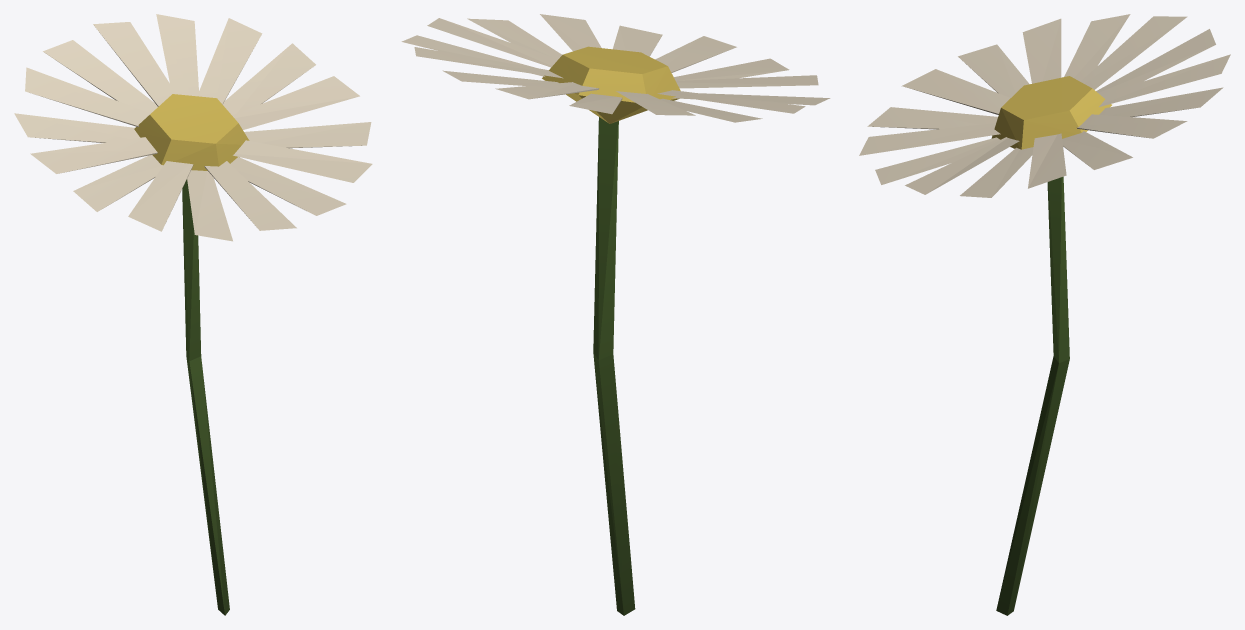
The model's file is Env_Daisy_Low_Detail_01.obj.
The picture shows the model from 3 angles, left to right: view 1: azimuth 30°, elevation 25°; view 2: azimuth 150°, elevation 25°; view 3: azimuth 270°, elevation 25°; orthographic projection. The views are drawn at different scales.
Parts seen in each view (by area): view 1: Env_Daisy_Low_Detail_01; view 2: Env_Daisy_Low_Detail_01; view 3: Env_Daisy_Low_Detail_01.
Boxes of the visible parts, x1=… form: Env_Daisy_Low_Detail_01: x1=14, y1=14, x2=372, y2=615; Env_Daisy_Low_Detail_01: x1=401, y1=14, x2=830, y2=615; Env_Daisy_Low_Detail_01: x1=859, y1=14, x2=1230, y2=615.
Size of the model in its own units: 0.1196 by 0.1873 by 0.1158.
1 material, 1 textured.
